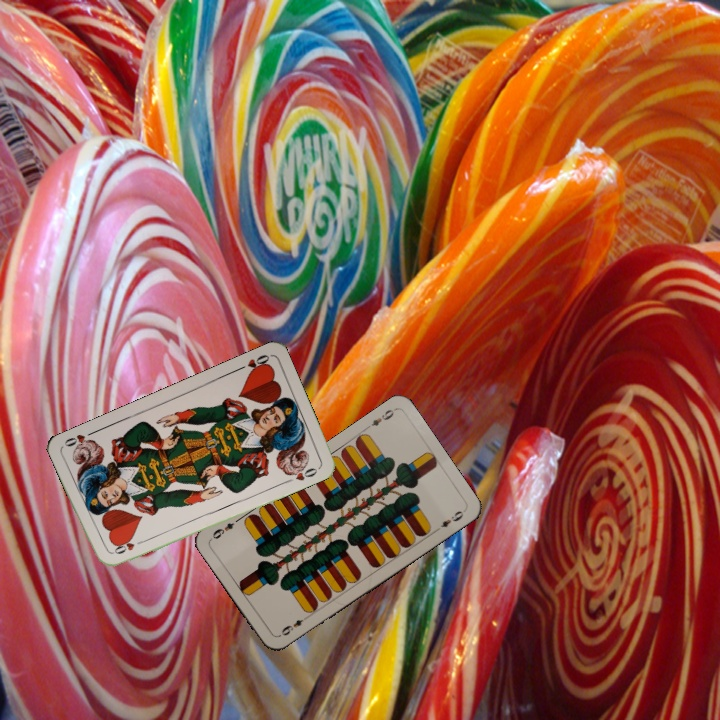E9: (362, 405, 398, 432), (277, 613, 311, 638)
HO: (234, 350, 272, 376), (108, 536, 147, 557)
